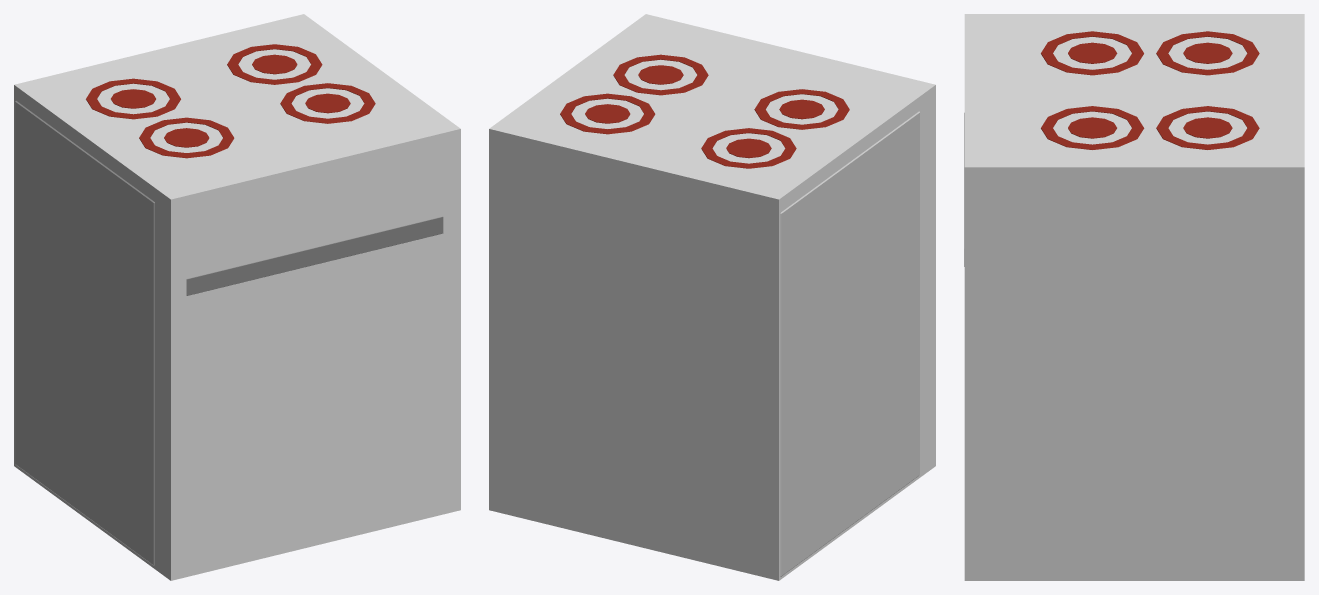
Rendered from oven.glb.
The picture shows the model from 3 angles, left to right: view 1: azimuth 30°, elevation 25°; view 2: azimuth 150°, elevation 25°; view 3: azimuth 270°, elevation 25°; orthographic projection. The views are drawn at different scales.
Visible parts, largest first — view 1: Oven_col, Oven; view 2: Oven_col, Oven; view 3: Oven_col, Oven.
Boxes of the visible parts, <box> form: Oven_col: <box>14,14,460,580</box>; Oven: <box>15,44,443,565</box>; Oven_col: <box>489,14,935,580</box>; Oven: <box>560,54,919,576</box>; Oven_col: <box>964,14,1304,580</box>; Oven: <box>964,31,1259,266</box>.
Bounding box in the file's own units: 3.61 × 4.53 × 3.37.
